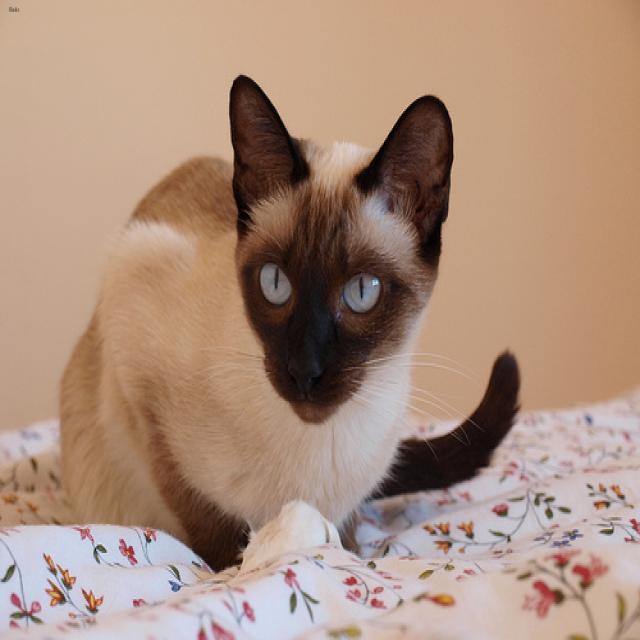Siamese: (225, 74, 453, 428)
